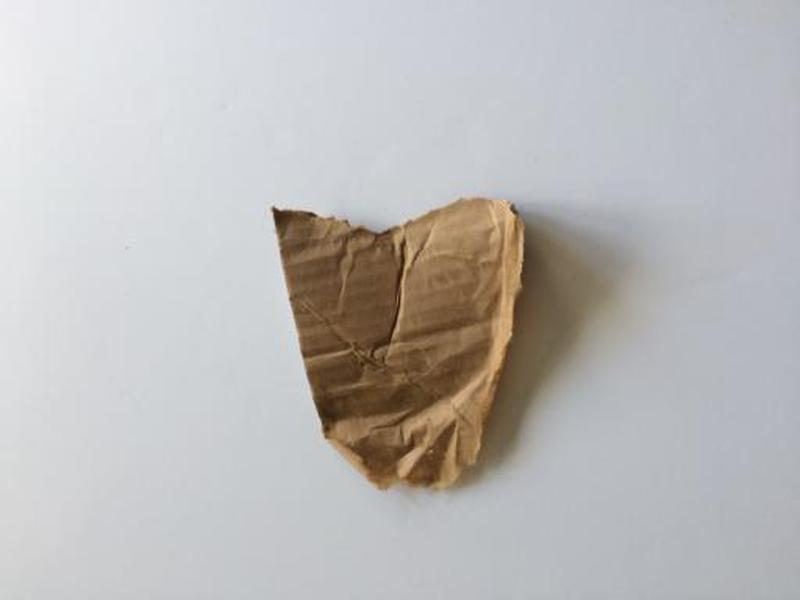cardboard: (266, 189, 537, 495)
